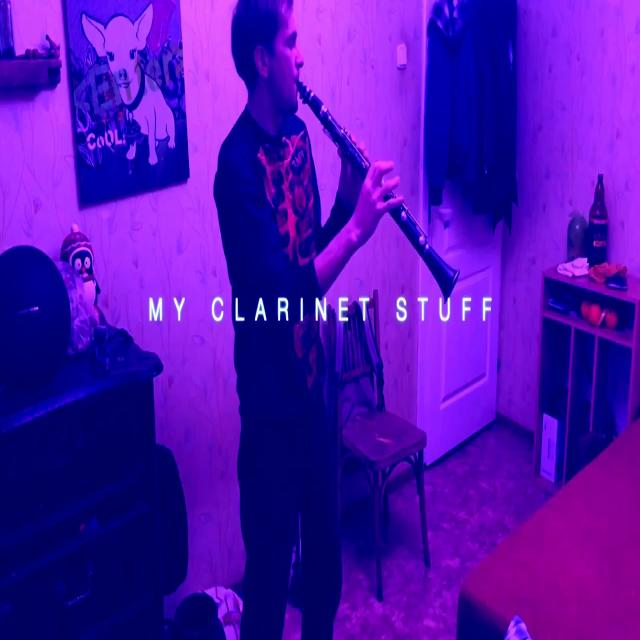Clarinet: (293, 71, 468, 309)
